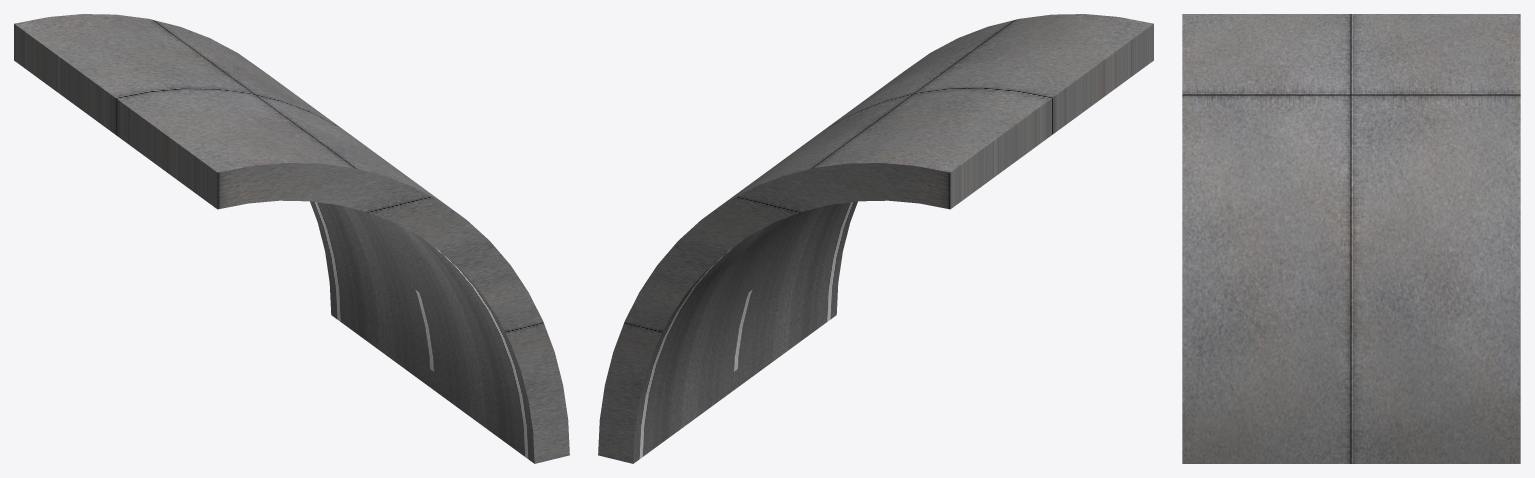
The model's file is loopBigUpper.fbx.
The picture shows the model from 3 angles, left to right: view 1: azimuth 30°, elevation 25°; view 2: azimuth 150°, elevation 25°; view 3: azimuth 270°, elevation 25°; orthographic projection. The views are drawn at different scales.
Parts seen in each view (by area): view 1: 1,1,002; view 2: 1,1,002; view 3: 1,1,002.
Part boxes in pixels (<box>): 1,1,002: <box>14,14,569,463</box>; 1,1,002: <box>598,14,1153,463</box>; 1,1,002: <box>1182,14,1520,463</box>.
Size of the model in its own units: 394 by 394 by 394.
